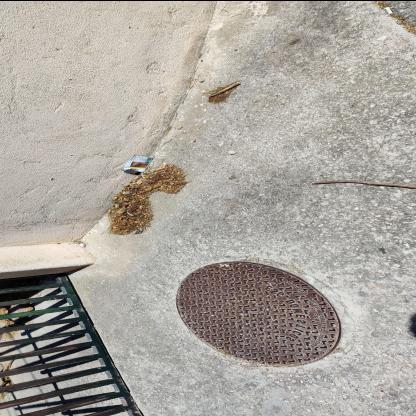karton: (121, 152, 152, 174)
